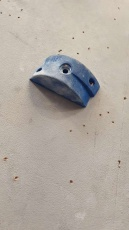Pinch: (30, 54, 102, 107)
